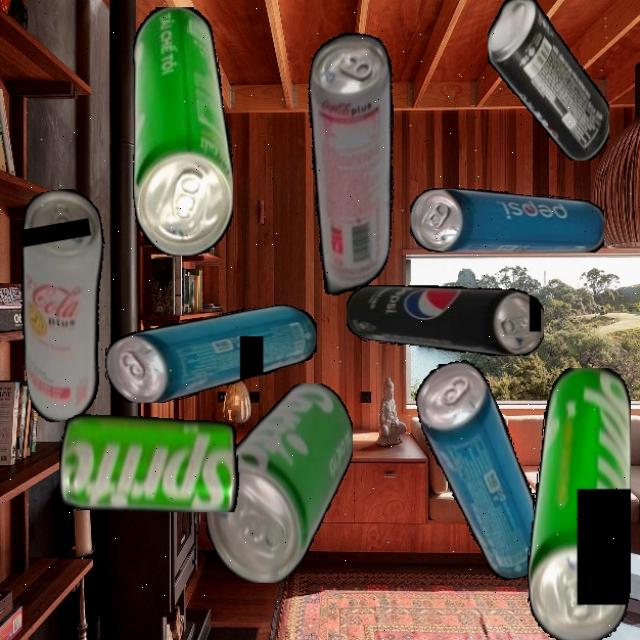debris: (272, 25, 425, 302), (411, 352, 552, 590), (0, 184, 134, 425), (205, 382, 352, 583), (526, 367, 631, 640), (132, 6, 233, 256), (58, 382, 240, 512), (105, 304, 317, 402), (487, 0, 609, 161), (345, 285, 544, 356), (410, 187, 604, 253)
